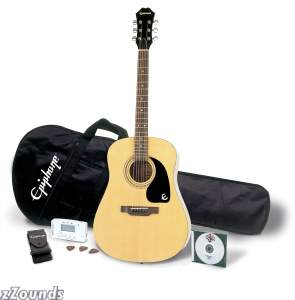guitar: (93, 6, 192, 264)
